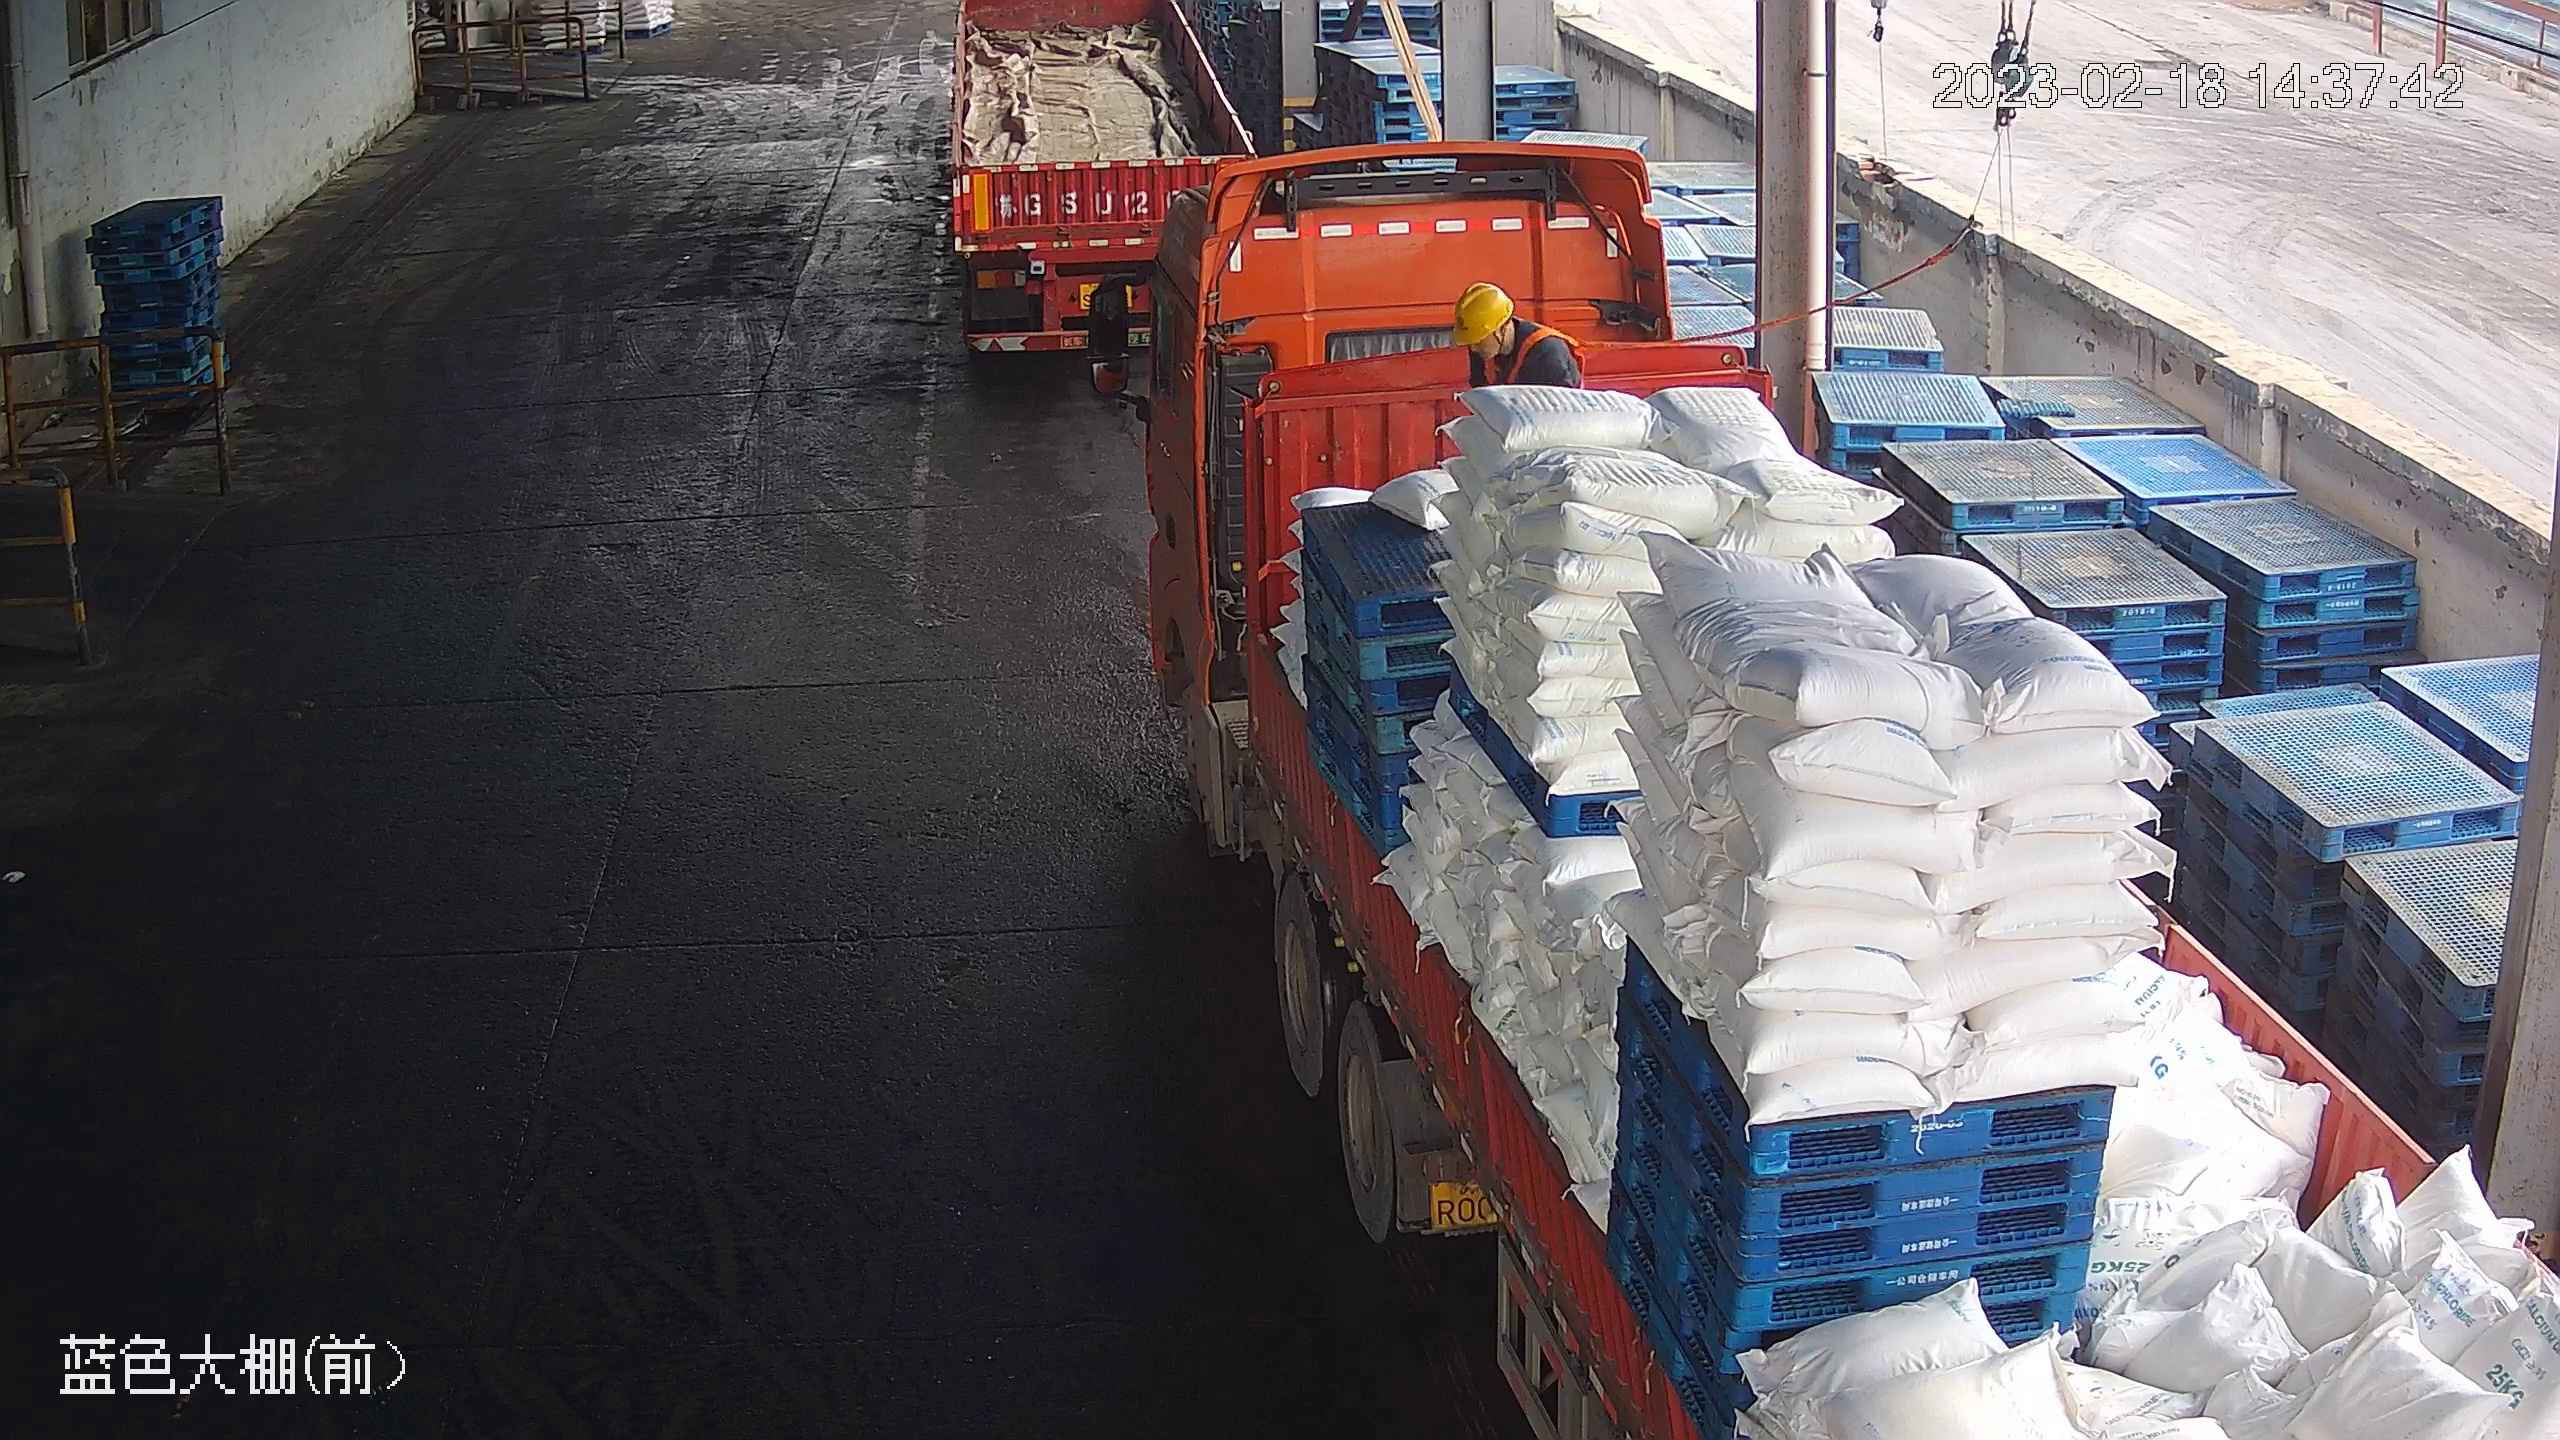belt: (1487, 327, 1574, 389)
head: (1451, 278, 1575, 375)
helmet: (1451, 279, 1515, 345)
truck: (1079, 134, 2560, 1440), (943, 2, 1265, 381)
